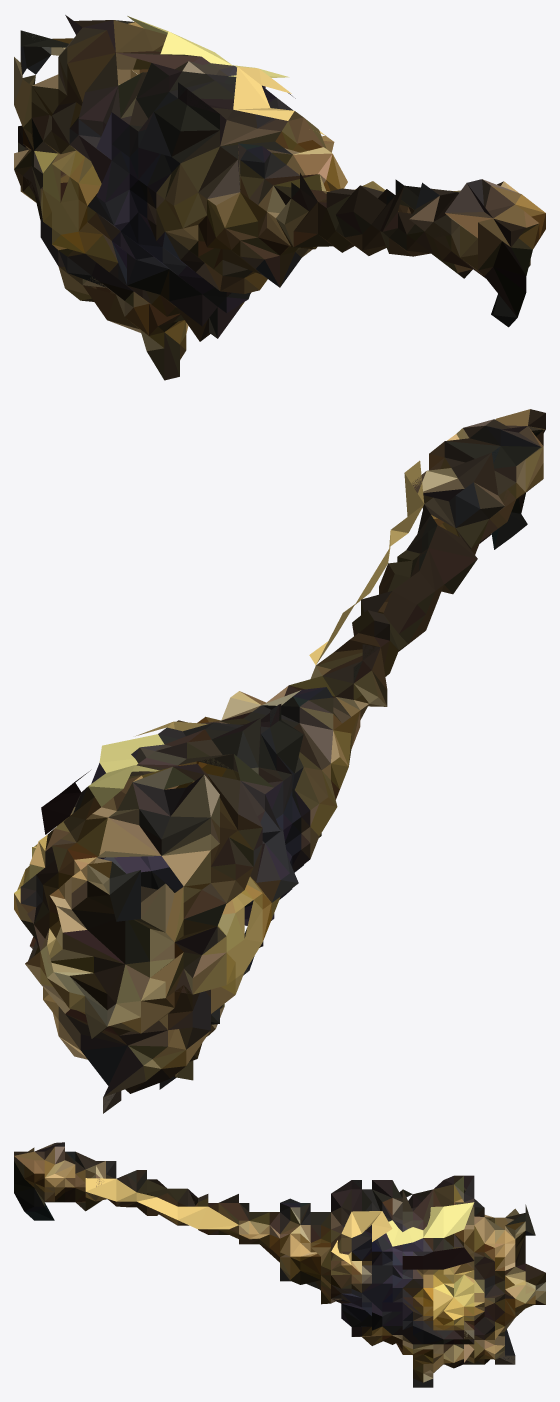
The model's file is B11_5_solar_sceptre.obj.
3 views of the same model, one above another, from view 1: azimuth 30°, elevation 25°; view 2: azimuth 150°, elevation 25°; view 3: azimuth 270°, elevation 25° (orthographic). The views are drawn at different scales.
Parts seen in each view (by area): view 1: B11_5_solar_sceptre; view 2: B11_5_solar_sceptre; view 3: B11_5_solar_sceptre.
Boxes of the visible parts, x1,y1,x2,y2 form: B11_5_solar_sceptre: (14, 15, 545, 380); B11_5_solar_sceptre: (14, 409, 545, 1113); B11_5_solar_sceptre: (14, 1142, 545, 1387).
Size of the model in its own units: 14 by 26 by 52.
